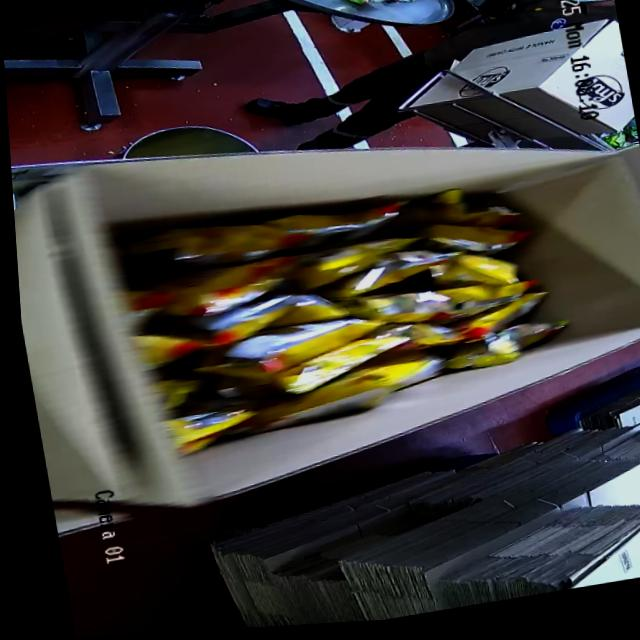SALTED: (131, 167, 557, 457)
